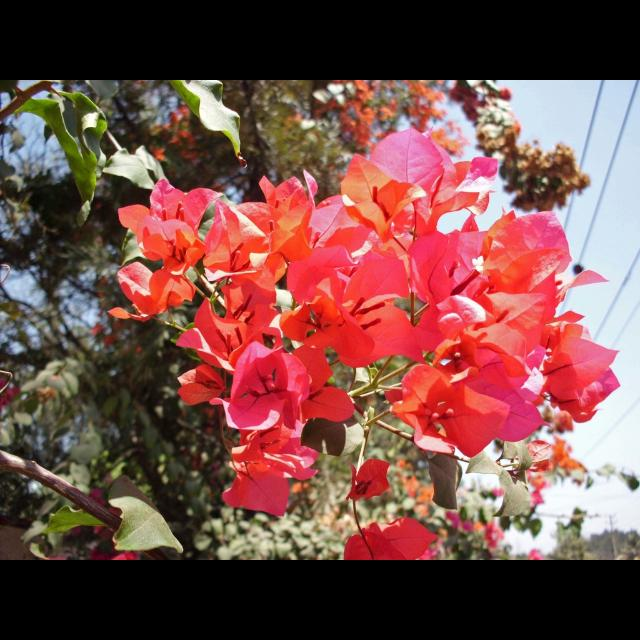Flower: (110, 126, 622, 560), (388, 220, 590, 474)
